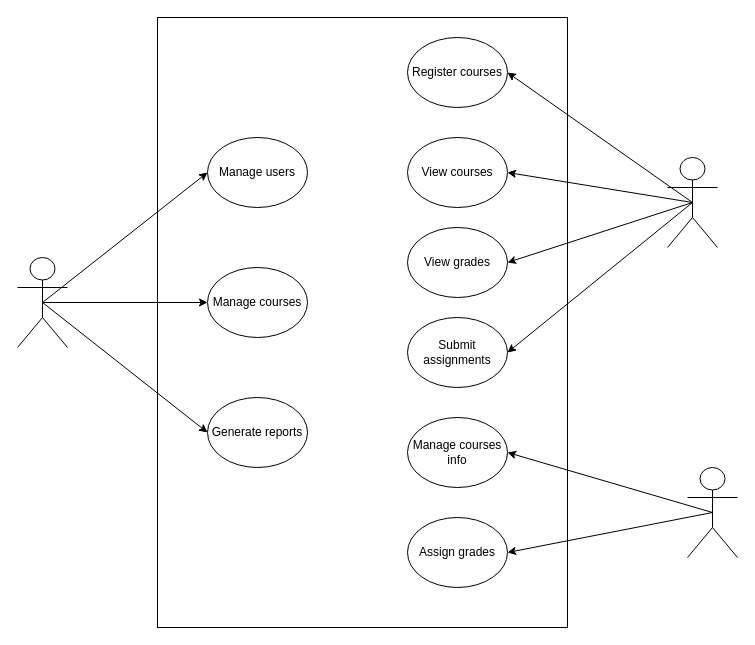
Some shapes in this 755 by 645 pixel diagram are drawn without their labels. Here are the shapes that lost their labels. From the top down, the centre of each, then its label:
At (x=692, y=202): "Student".
At (x=42, y=302): "Admin".
At (x=712, y=512): "Faculty".
